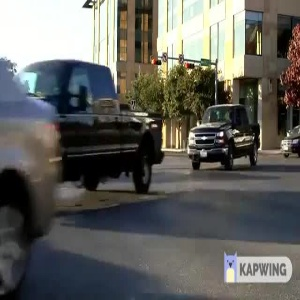truck: (26, 56, 179, 194), (186, 101, 267, 178)
